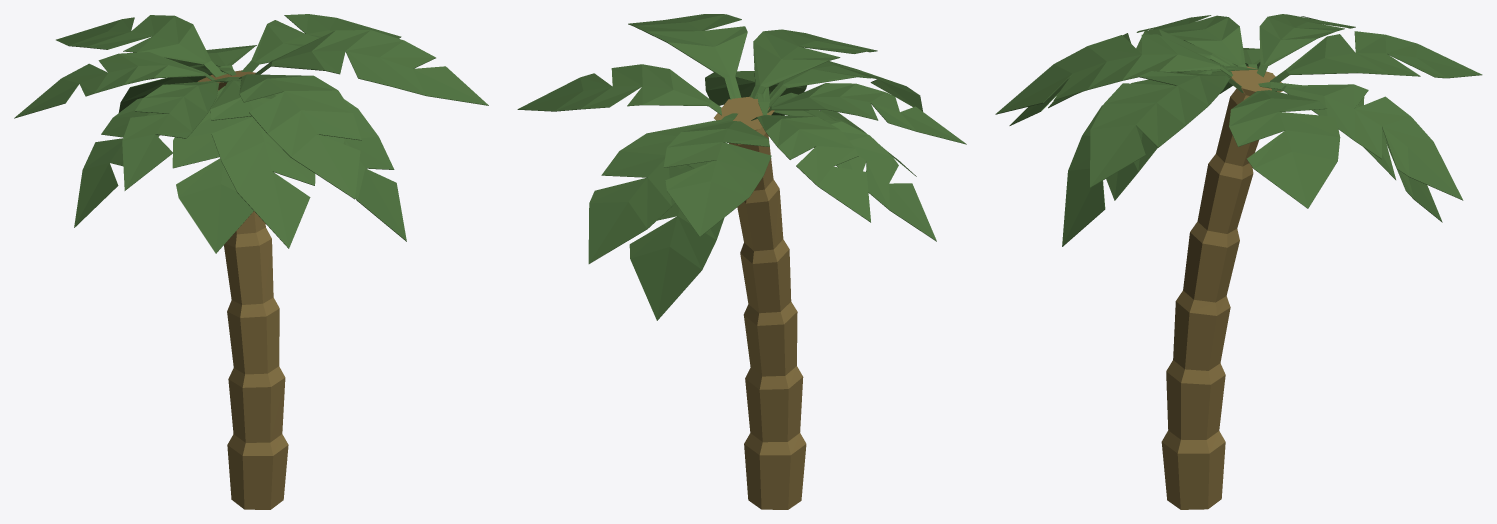
The model's file is Palm_Tree.fbx.
3 views of the same model, side by side, from view 1: azimuth 30°, elevation 25°; view 2: azimuth 150°, elevation 25°; view 3: azimuth 270°, elevation 25° (orthographic). The views are drawn at different scales.
Parts seen in each view (by area): view 1: pPlane14; view 2: pPlane14; view 3: pPlane14.
Boxes of the visible parts, x1,y1,x2,y2 form: pPlane14: (14, 14, 488, 509); pPlane14: (517, 14, 966, 509); pPlane14: (995, 14, 1482, 509).
Bounding box in the file's own units: 265 × 299 × 289.
